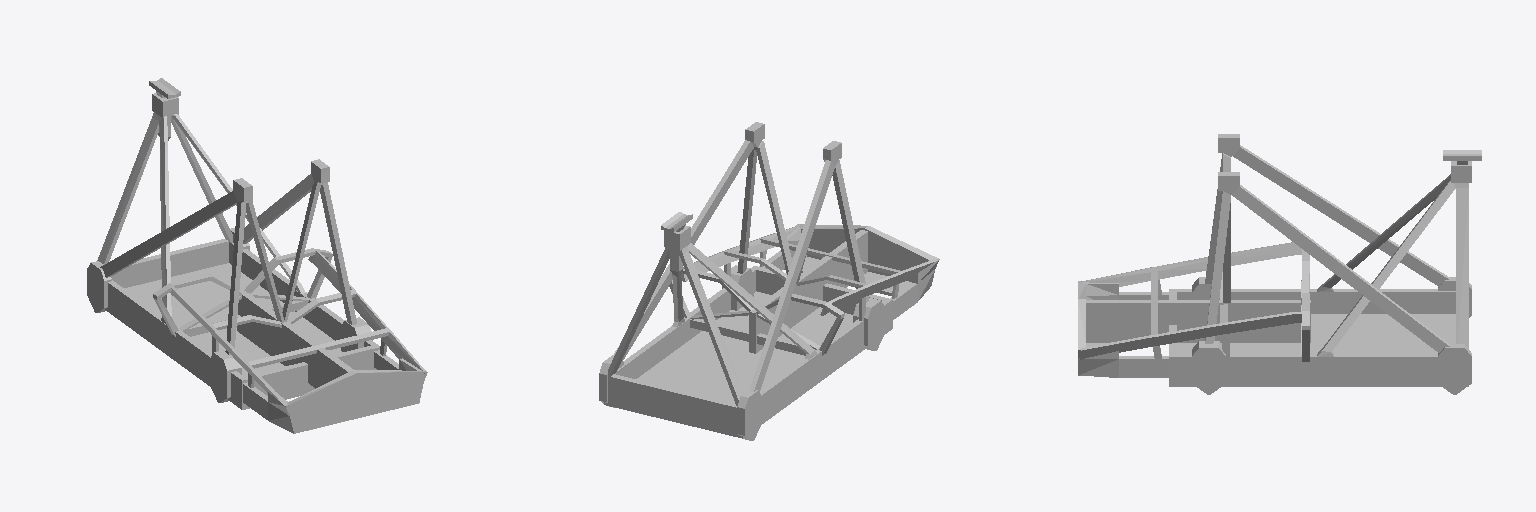
Rendered from catapult_JY.obj.
The picture shows the model from 3 angles: view 1: azimuth 30°, elevation 25°; view 2: azimuth 150°, elevation 25°; view 3: azimuth 270°, elevation 25°; orthographic projection.
Visible parts, largest first — view 1: 立方体; view 2: 立方体; view 3: 立方体.
Boxes of the visible parts, x1,y1,x2,y2 form: 立方体: [87, 78, 427, 433]; 立方体: [599, 122, 939, 440]; 立方体: [1078, 134, 1481, 394].
Size of the model in its own units: 1.39 by 1.57 by 2.78.